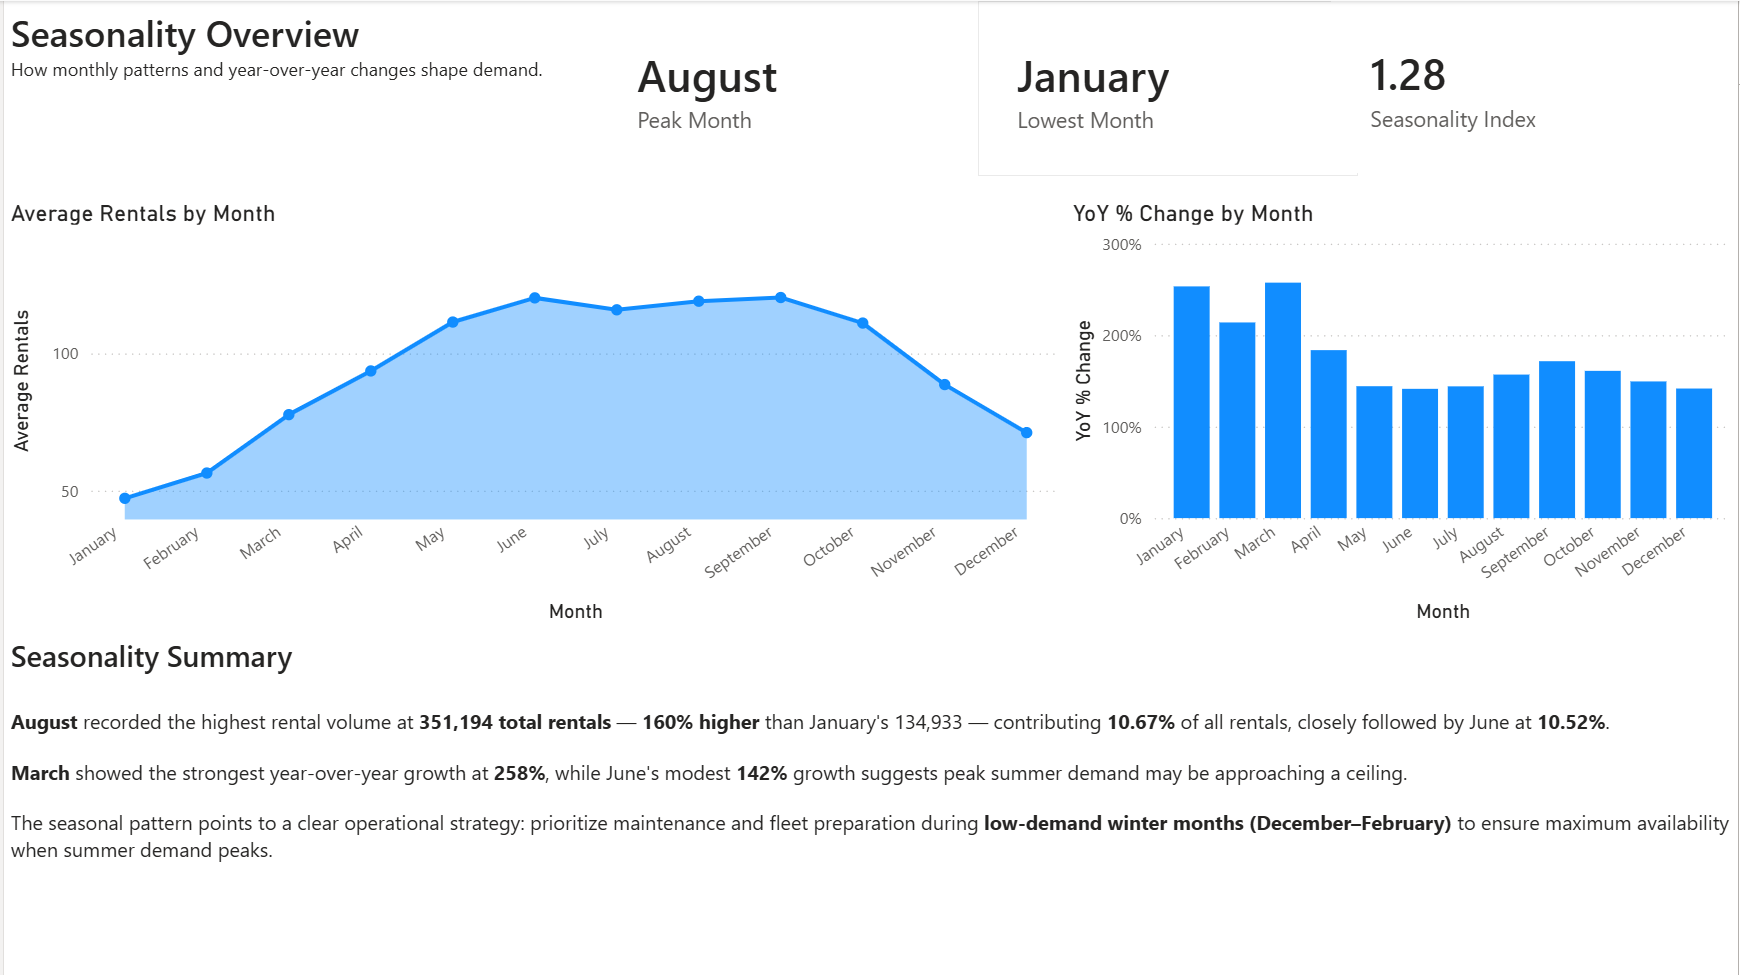

What the dashboard file says about the page in this screenshot:
{"tool":"powerbi","page":{"name":"Seasonality","canvas":[1280,720],"ordinal":1},"visuals":[{"type":"cardVisual","fields":{"Data":["public view_fact_bike_rentals.Peak Month"]},"box":[438.7,0,280.4,129.1],"z":0},{"type":"cardVisual","fields":{"Data":["public view_fact_bike_rentals.Lowest Month"]},"box":[719.1,0,280.4,129.1],"z":1000},{"type":"textbox","box":[0,0,438.7,129.1],"z":2000},{"type":"lineChart","fields":{"Category":["public dim_date.month_name"],"Y":["public view_fact_bike_rentals.Average Rentals"]},"box":[0,146.2,784.2,317.6],"z":3000},{"type":"clusteredColumnChart","title":"YoY % Change by Month","fields":{"Y":["public view_fact_bike_rentals.YoY % Change"],"Category":["public dim_date.month_name"]},"box":[784.2,146.2,495.8,317.6],"z":4000},{"type":"textbox","box":[0,463.9,229.7,52.1],"z":6000},{"type":"cardVisual","fields":{"Data":["public view_fact_bike_rentals.Seasonality Index"]},"box":[979.7,0,300.3,127],"z":7000},{"type":"textbox","box":[0,516.8,1280,203.2],"z":8001}]}

Visuals, with their boxes in screenshot pixels (x1, y1, x2, y2), scaled from the page's 1280x720 canvas onto the 1740x975 screenshot:
cardVisual - public view_fact_bike_rentals.Peak Month: bbox(596, 0, 978, 175)
cardVisual - public view_fact_bike_rentals.Lowest Month: bbox(978, 0, 1359, 175)
textbox: bbox(0, 0, 596, 175)
lineChart - public dim_date.month_name x public view_fact_bike_rentals.Average Rentals: bbox(0, 198, 1066, 628)
"YoY % Change by Month" clusteredColumnChart: bbox(1066, 198, 1739, 628)
textbox: bbox(0, 628, 312, 699)
cardVisual - public view_fact_bike_rentals.Seasonality Index: bbox(1332, 0, 1739, 172)
textbox: bbox(0, 700, 1739, 974)
